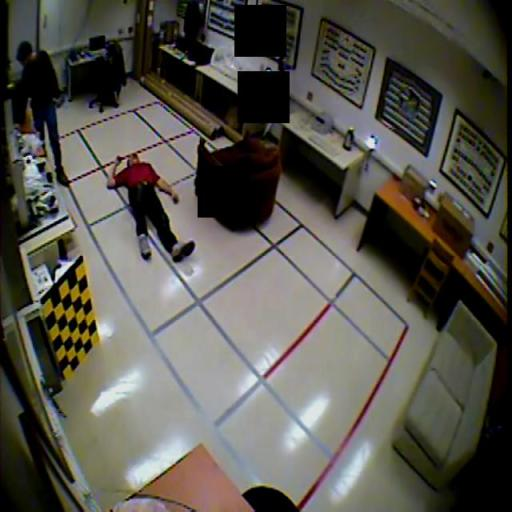Fall: (106, 153, 196, 264)
